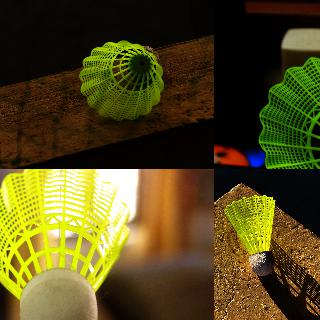shuttlecock: (0, 169, 131, 319), (258, 56, 319, 168), (80, 40, 162, 120), (223, 194, 274, 276)
